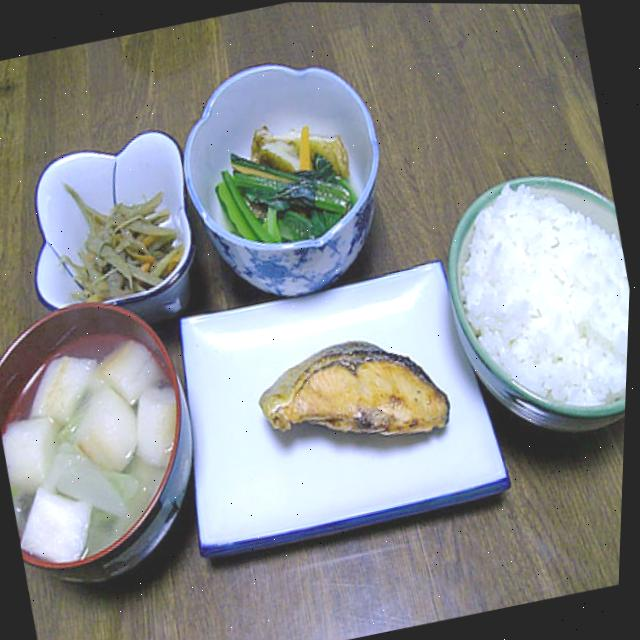米饭主食: (429, 149, 636, 432)
